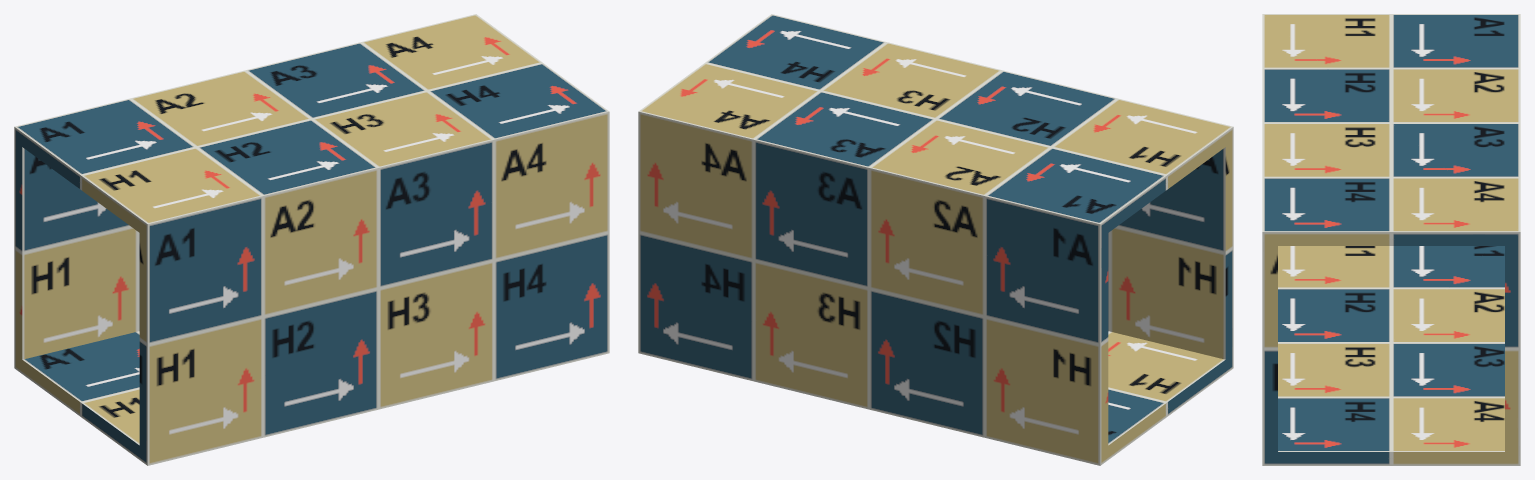
Rendered from DUCT_Square_1m.fbx.
3 renders of one model, left to right at view 1: azimuth 30°, elevation 25°; view 2: azimuth 150°, elevation 25°; view 3: azimuth 270°, elevation 25°, orthographic. The views are drawn at different scales.
Visible parts, largest first — view 1: DUCT_Square_1m; view 2: DUCT_Square_1m; view 3: DUCT_Square_1m.
Boxes of the visible parts, <box> form: DUCT_Square_1m: <box>14,14,609,465</box>; DUCT_Square_1m: <box>638,14,1233,465</box>; DUCT_Square_1m: <box>1262,14,1520,465</box>.
Size of the model in its own units: 100 by 50 by 50.
Materials: 1 (1 with a texture image).
